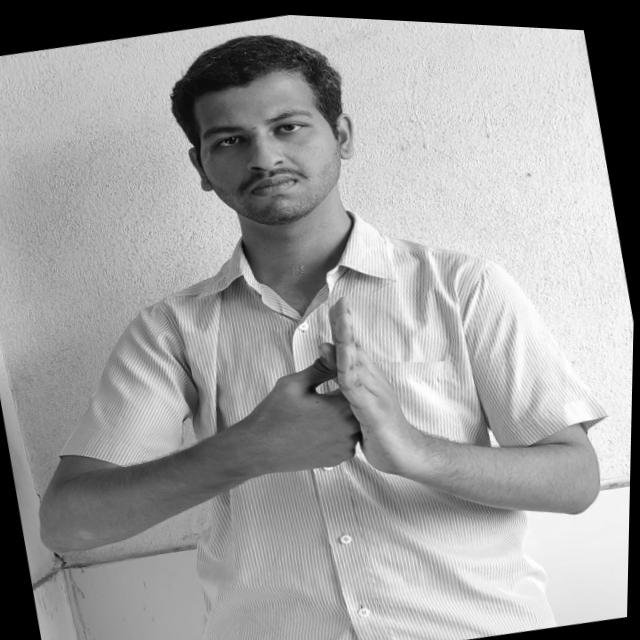Well Done: (240, 279, 418, 495)
